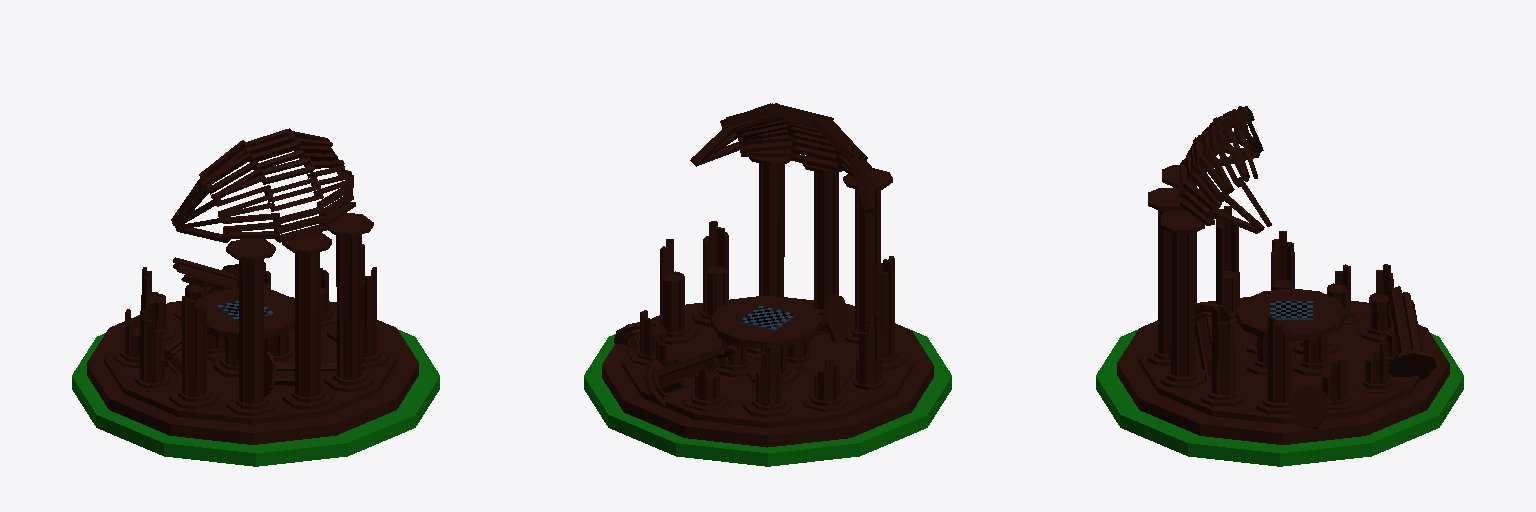
3 renders of one model, left to right at view 1: azimuth 30°, elevation 25°; view 2: azimuth 150°, elevation 25°; view 3: azimuth 270°, elevation 25°, orthographic.
Visible parts, largest first — view 1: group[number redacted], group[number redacted], group[number redacted], group[number redacted], group[number redacted], group[number redacted], group[number redacted], group[number redacted], group[number redacted], group[number redacted], group[number redacted], group[number redacted] (+6 smaller); view 2: group[number redacted], group[number redacted], group[number redacted], group[number redacted], group[number redacted], group[number redacted], group[number redacted], group[number redacted], group[number redacted], group[number redacted], group[number redacted], group[number redacted] (+12 smaller); view 3: group[number redacted], group[number redacted], group[number redacted], group[number redacted], group[number redacted], group[number redacted], group[number redacted], group[number redacted], group[number redacted], group[number redacted], group[number redacted], group[number redacted] (+8 smaller).
Boxes of the visible parts, box(x1,y1,x2,y2) form: group[number redacted]: box(171, 128, 355, 242); group[number redacted]: box(72, 330, 439, 466); group[number redacted]: box(87, 297, 418, 444); group[number redacted]: box(104, 303, 396, 424); group[number redacted]: box(226, 239, 275, 415); group[number redacted]: box(324, 213, 373, 391); group[number redacted]: box(282, 232, 332, 409); group[number redacted]: box(169, 296, 218, 408); group[number redacted]: box(195, 288, 294, 339); group[number redacted]: box(127, 310, 176, 391); group[number redacted]: box(362, 267, 388, 369); group[number redacted]: box(173, 257, 238, 292); group[number redacted]: box(584, 325, 951, 466); group[number redacted]: box(602, 296, 933, 447); group[number redacted]: box(622, 302, 914, 427); group[number redacted]: box(690, 103, 875, 212); group[number redacted]: box(711, 295, 821, 348); group[number redacted]: box(749, 149, 790, 296); group[number redacted]: box(843, 168, 892, 343); group[number redacted]: box(802, 156, 851, 319); group[number redacted]: box(692, 221, 728, 327); group[number redacted]: box(659, 239, 697, 344); group[number redacted]: box(644, 345, 736, 406); group[number redacted]: box(869, 256, 907, 370); group[number redacted]: box(1096, 330, 1463, 466); group[number redacted]: box(1117, 297, 1449, 444); group[number redacted]: box(1138, 299, 1429, 423); group[number redacted]: box(1179, 106, 1271, 233); group[number redacted]: box(1160, 211, 1204, 387); group[number redacted]: box(1236, 288, 1346, 341); group[number redacted]: box(1147, 188, 1181, 365); group[number redacted]: box(1388, 286, 1436, 379); group[number redacted]: box(1201, 307, 1245, 405); group[number redacted]: box(1256, 316, 1293, 413); group[number redacted]: box(1213, 206, 1240, 323); group[number redacted]: box(1359, 264, 1393, 342).
Bounding box in the file's own units: 2.26 × 1.84 × 2.26.